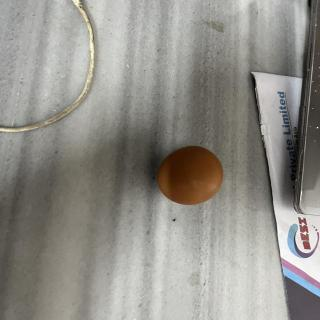Telur: (156, 145, 228, 207)
